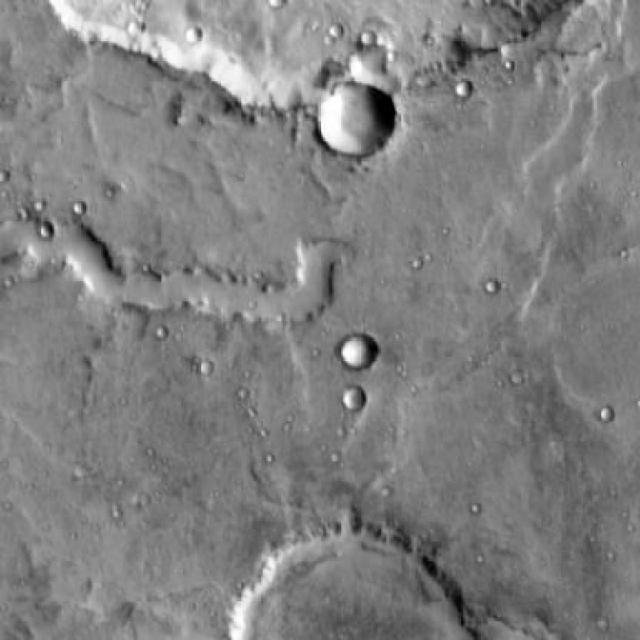crater: (44, 0, 584, 66), (231, 530, 469, 639), (317, 79, 395, 158), (340, 334, 378, 372), (342, 388, 364, 412), (460, 77, 478, 94), (188, 20, 205, 38), (364, 27, 382, 44), (41, 218, 56, 233)
